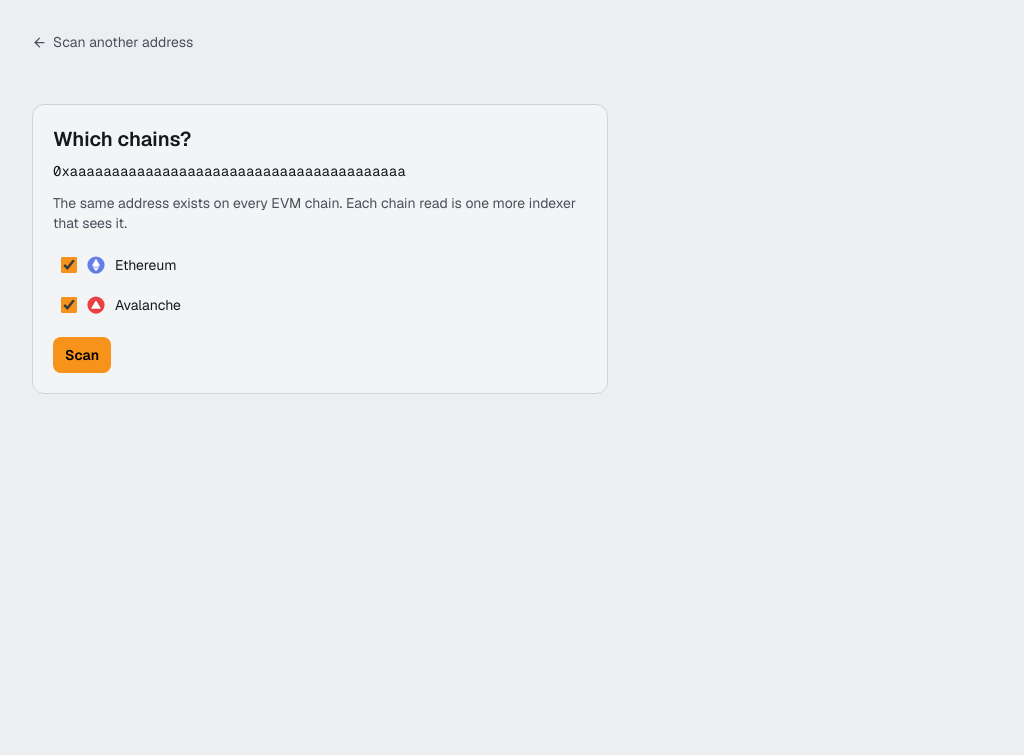
Scenario: the account scan › asks an EVM address for its chains, then scans those
Expected: the heading "Which chains?" is shown, [53,126,191,152]
Click the checkbox labelled "Ethereum" at (69, 265), box [61,257,77,273]
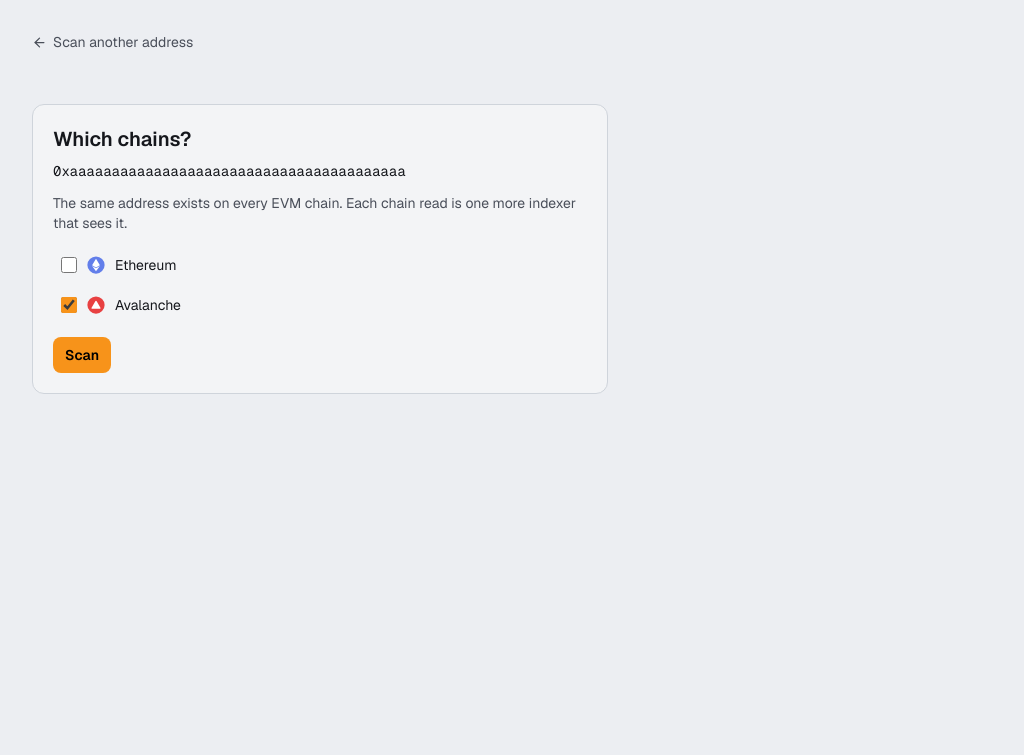
Click the button "Scan" at (82, 355), box [53,337,111,373]
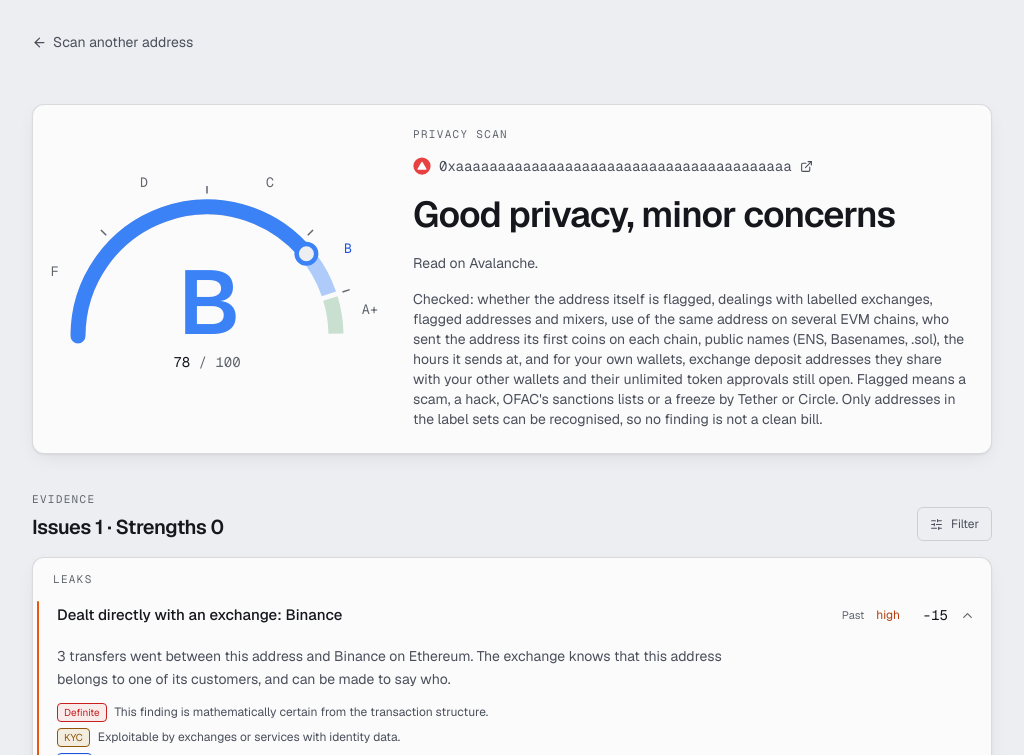
Expected: the element with test id "score-display" is shown, [57,186,357,372]
